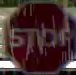Stop: (2, 1, 75, 74)
